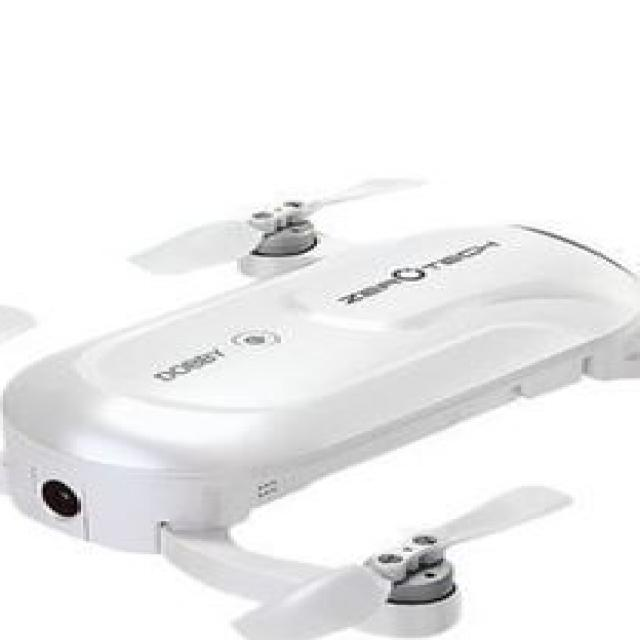drone: (0, 207, 640, 627)
